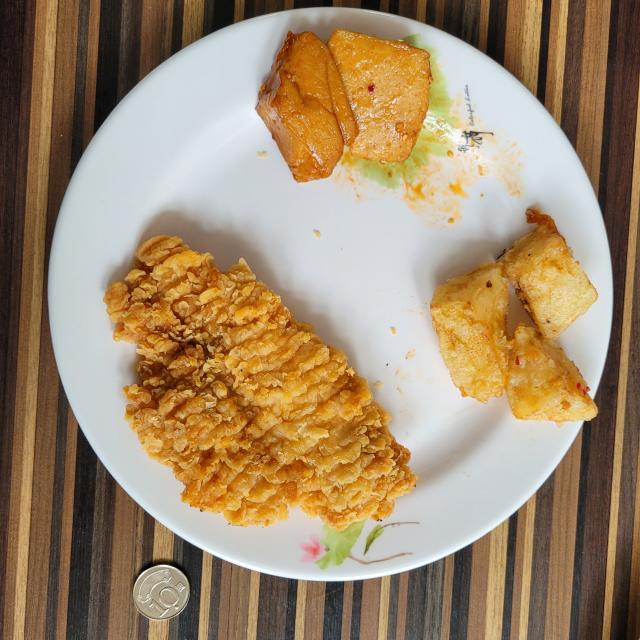coin: (132, 565, 190, 620)
creamy tofu: (256, 30, 432, 181)
fried chicken cutlet: (105, 236, 416, 530)
fried potato: (430, 209, 598, 422)
